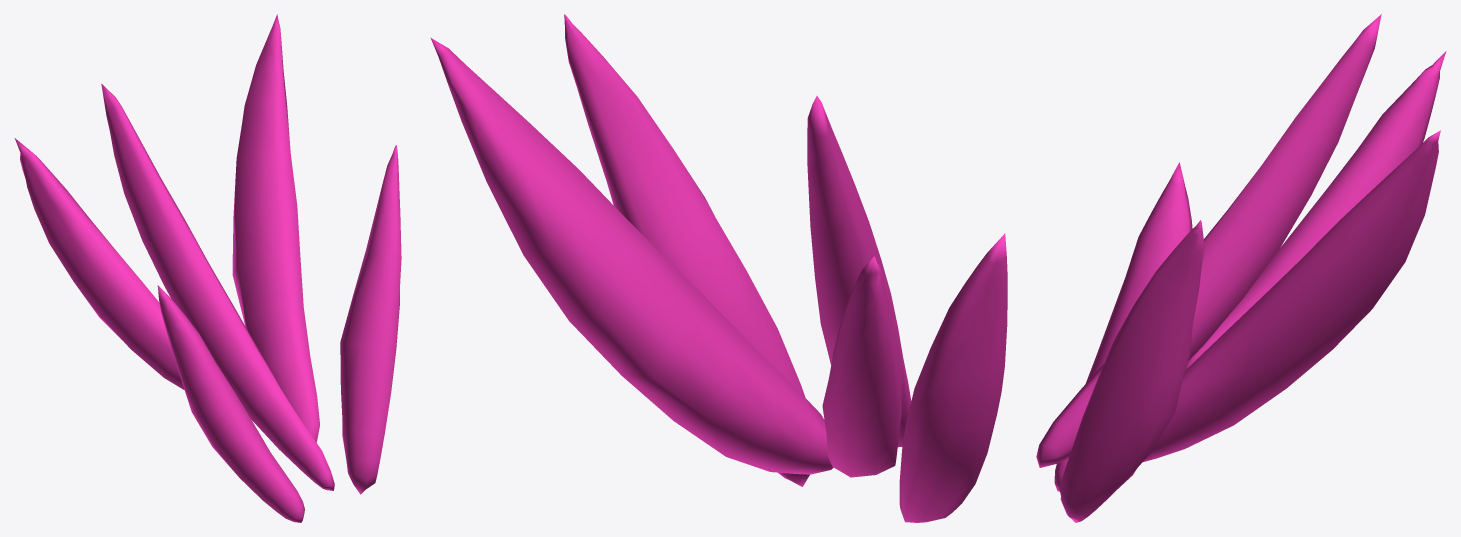
File: SM_Thorn_01_Norm_F.FBX
The picture shows the model from 3 angles, left to right: view 1: azimuth 30°, elevation 25°; view 2: azimuth 150°, elevation 25°; view 3: azimuth 270°, elevation 25°; orthographic projection. The views are drawn at different scales.
Parts seen in each view (by area): view 1: Object001; view 2: Object001; view 3: Object001.
Part boxes in pixels (x1=…): Object001: x1=14, y1=14, x2=401, y2=522; Object001: x1=430, y1=14, x2=1007, y2=522; Object001: x1=1036, y1=14, x2=1446, y2=522.
Bounding box in the file's own units: 548 × 673 × 568.
